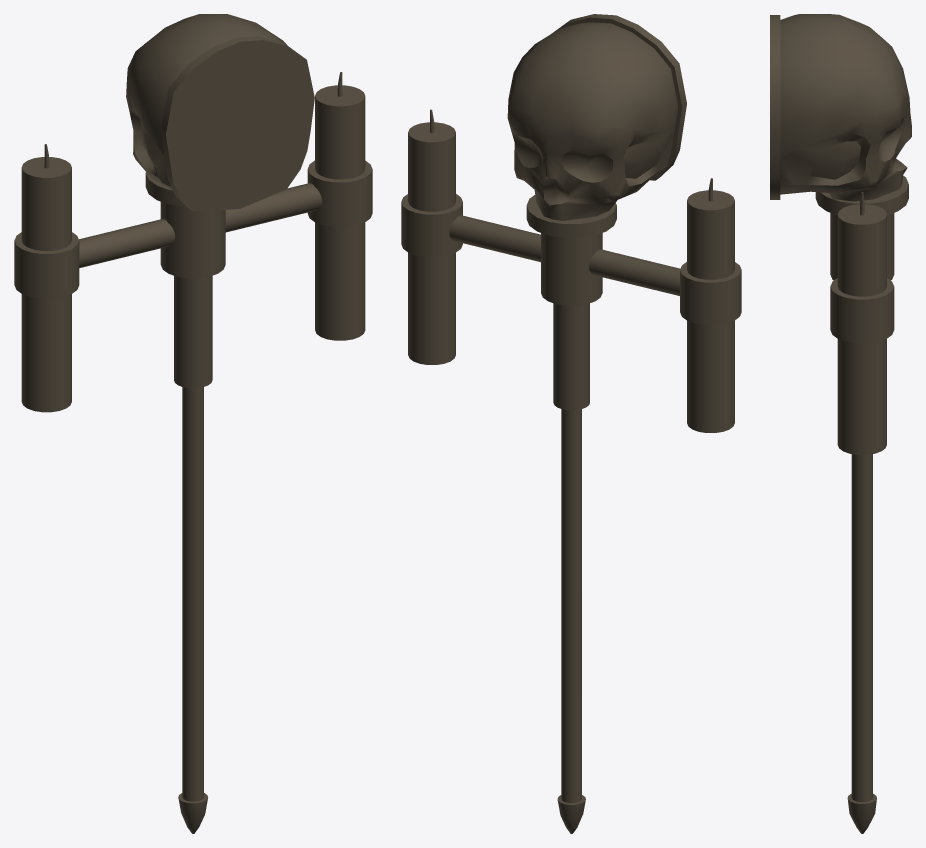
File: candle1.obj
The picture shows the model from 3 angles, left to right: view 1: azimuth 30°, elevation 25°; view 2: azimuth 150°, elevation 25°; view 3: azimuth 270°, elevation 25°; orthographic projection. The views are drawn at different scales.
Parts seen in each view (by area): view 1: Candlestick_skull_(2_candles_1_sticks); view 2: Candlestick_skull_(2_candles_1_sticks); view 3: Candlestick_skull_(2_candles_1_sticks).
Boxes of the visible parts, bbox=[...] form: Candlestick_skull_(2_candles_1_sticks): bbox=[14, 14, 372, 833]; Candlestick_skull_(2_candles_1_sticks): bbox=[401, 14, 741, 833]; Candlestick_skull_(2_candles_1_sticks): bbox=[770, 14, 911, 833].
Size of the model in its own units: 495 by 1123 by 178.
